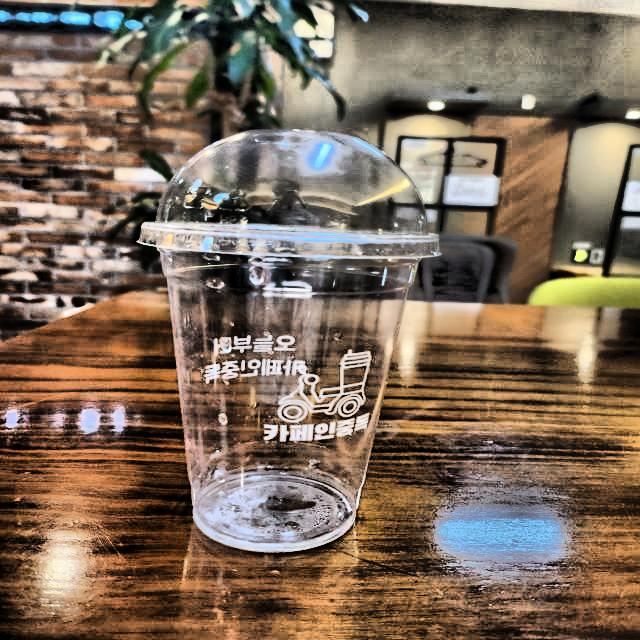plastic cup: (115, 115, 462, 581)
